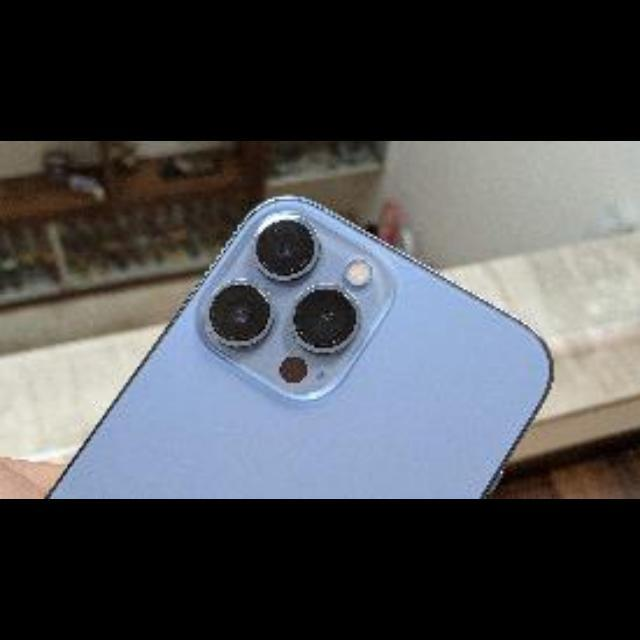Phone: (42, 195, 552, 499)
